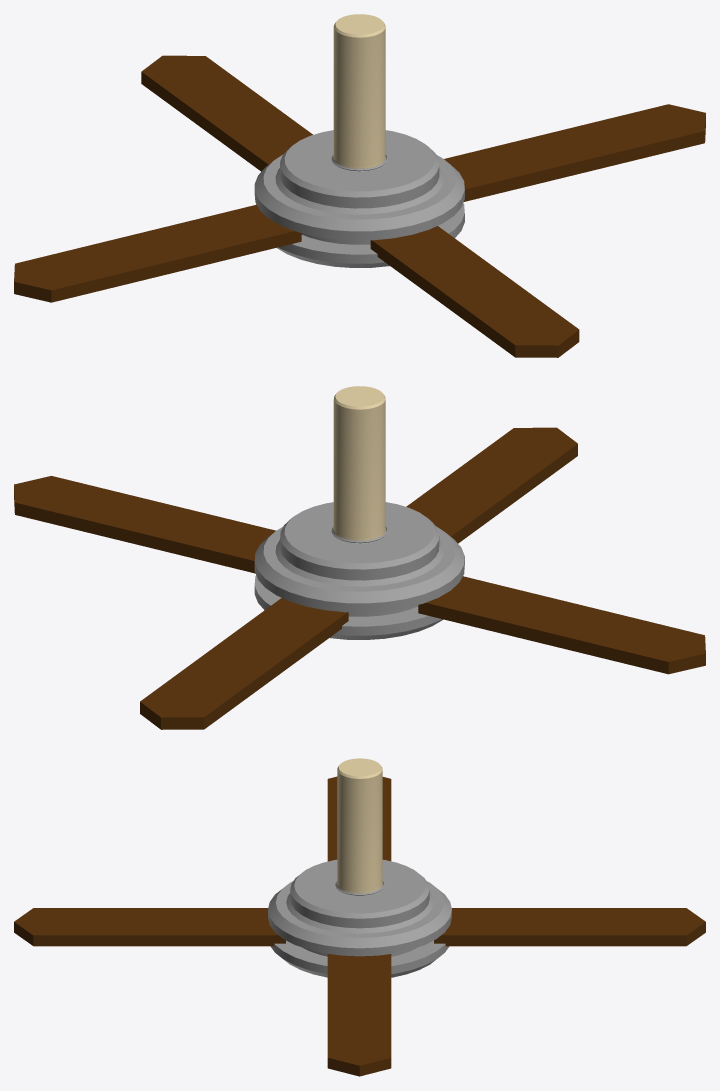
Rendered from fan.glb.
3 renders of one model, top to bottom at view 1: azimuth 30°, elevation 25°; view 2: azimuth 150°, elevation 25°; view 3: azimuth 270°, elevation 25°, orthographic. The views are drawn at different scales.
Visible parts, largest first — view 1: fanblades, fan; view 2: fanblades, fan; view 3: fanblades, fan.
Part boxes in pixels (x1,y1,x2,y2): fanblades: [14, 55, 705, 357]; fan: [254, 14, 464, 267]; fanblades: [14, 427, 705, 729]; fan: [254, 386, 464, 639]; fanblades: [14, 776, 705, 1076]; fan: [268, 758, 451, 977].
Size of what is drawn, in the model's own units: 3.72 by 1.04 by 3.69.
